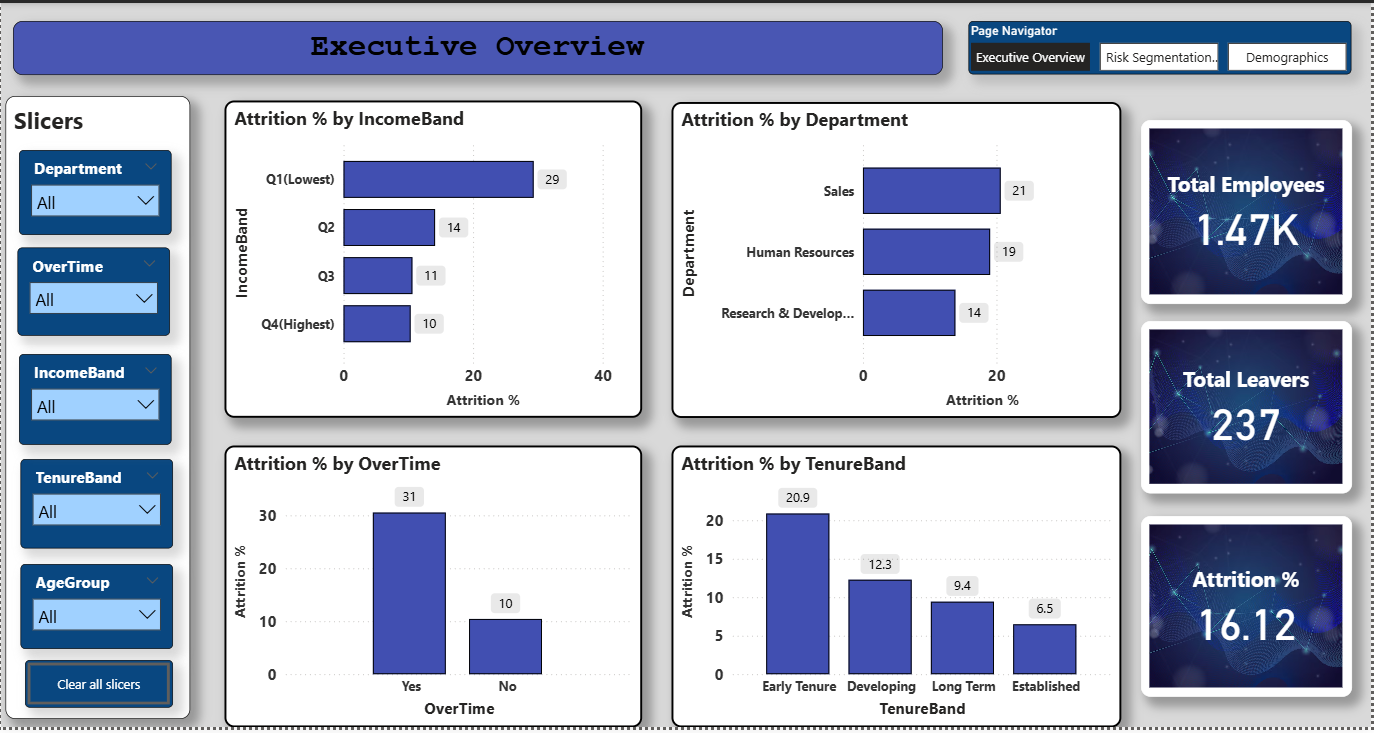

The dashboard page shown, as its layout file describes it:
{"tool":"powerbi","page":{"name":"Executive Overview","canvas":[1420,750],"ordinal":0},"visuals":[{"type":"cardVisual","fields":{"Data":["hr_dashboard_metrics.Attrition %"]},"box":[1180.8,531.6,218.6,187.1],"z":0},{"type":"cardVisual","fields":{"Data":["hr_dashboard_metrics.Total Employees"]},"box":[1180.8,120.9,218.6,190.5],"z":1000},{"type":"cardVisual","fields":{"Data":["hr_dashboard_metrics.Total Leavers"]},"box":[1180.8,329.6,218.6,178.9],"z":2000},{"type":"clusteredBarChart","fields":{"Y":["hr_dashboard_metrics.Attrition %"],"Category":["hr_dashboard_metrics.Department"]},"box":[694.7,102.2,466.3,327.4],"z":3000},{"type":"textbox","box":[4.8,95.8,191.6,645.2],"z":4000},{"type":"clusteredColumnChart","fields":{"Category":["hr_dashboard_metrics.TenureBand"],"Y":["hr_dashboard_metrics.Attrition %"]},"box":[694.7,458.3,466.3,292.3],"z":5000},{"type":"barChart","fields":{"Y":["hr_dashboard_metrics.Attrition %"],"Category":["hr_dashboard_metrics.IncomeBand"]},"box":[231.6,100.6,432.8,329],"z":6000},{"type":"clusteredColumnChart","fields":{"Category":["hr_dashboard_metrics.OverTime"],"Y":["hr_dashboard_metrics.Attrition %"]},"box":[231.6,458.3,432.8,292.3],"z":7000},{"type":"slicer","fields":{"Values":["hr_dashboard_metrics.Department"]},"box":[19.2,151.7,158.1,87.8],"z":8000},{"type":"slicer","fields":{"Values":["hr_dashboard_metrics.TenureBand"]},"box":[20.8,472.7,158.1,92.6],"z":9000},{"type":"slicer","fields":{"Values":["hr_dashboard_metrics.AgeGroup"]},"box":[20.8,581.3,158.1,87.8],"z":10000},{"type":"slicer","fields":{"Values":["hr_dashboard_metrics.OverTime"]},"box":[17.6,253.9,158.1,91],"z":11000},{"type":"slicer","fields":{"Values":["hr_dashboard_metrics.IncomeBand"]},"box":[19.2,364.1,158.1,94.2],"z":12000},{"type":"textbox","box":[12.1,18.2,963,56],"z":13000},{"type":"actionButton","box":[25.6,680.3,153.3,49.5],"z":14000},{"type":"pageNavigator","title":"Page Navigator","box":[1002.9,18.5,396.4,55.4],"z":15000}]}

Visuals, with their boxes in screenshot pixels (x1, y1, x2, y2), scaled from the page's 1420x750 canvas onto the 1374x733 screenshot:
cardVisual - hr_dashboard_metrics.Attrition %: {"x1": 1143, "y1": 520, "x2": 1354, "y2": 702}
cardVisual - hr_dashboard_metrics.Total Employees: {"x1": 1143, "y1": 118, "x2": 1354, "y2": 304}
cardVisual - hr_dashboard_metrics.Total Leavers: {"x1": 1143, "y1": 322, "x2": 1354, "y2": 497}
clusteredBarChart - hr_dashboard_metrics.Attrition % x hr_dashboard_metrics.Department: {"x1": 672, "y1": 100, "x2": 1123, "y2": 420}
textbox: {"x1": 5, "y1": 94, "x2": 190, "y2": 724}
clusteredColumnChart - hr_dashboard_metrics.TenureBand x hr_dashboard_metrics.Attrition %: {"x1": 672, "y1": 448, "x2": 1123, "y2": 732}
barChart - hr_dashboard_metrics.Attrition % x hr_dashboard_metrics.IncomeBand: {"x1": 224, "y1": 98, "x2": 643, "y2": 420}
clusteredColumnChart - hr_dashboard_metrics.OverTime x hr_dashboard_metrics.Attrition %: {"x1": 224, "y1": 448, "x2": 643, "y2": 732}
slicer - hr_dashboard_metrics.Department: {"x1": 19, "y1": 148, "x2": 172, "y2": 234}
slicer - hr_dashboard_metrics.TenureBand: {"x1": 20, "y1": 462, "x2": 173, "y2": 552}
slicer - hr_dashboard_metrics.AgeGroup: {"x1": 20, "y1": 568, "x2": 173, "y2": 654}
slicer - hr_dashboard_metrics.OverTime: {"x1": 17, "y1": 248, "x2": 170, "y2": 337}
slicer - hr_dashboard_metrics.IncomeBand: {"x1": 19, "y1": 356, "x2": 172, "y2": 448}
textbox: {"x1": 12, "y1": 18, "x2": 944, "y2": 73}
actionButton: {"x1": 25, "y1": 665, "x2": 173, "y2": 713}
"Page Navigator" pageNavigator: {"x1": 970, "y1": 18, "x2": 1354, "y2": 72}
